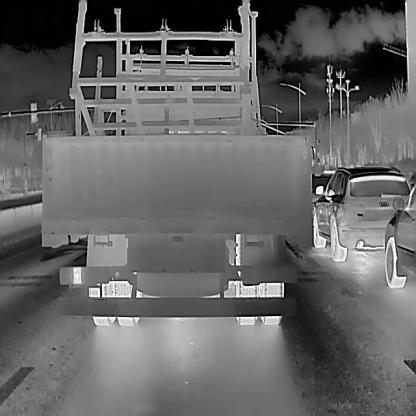car: (37, 52, 313, 327), (311, 166, 412, 262)
